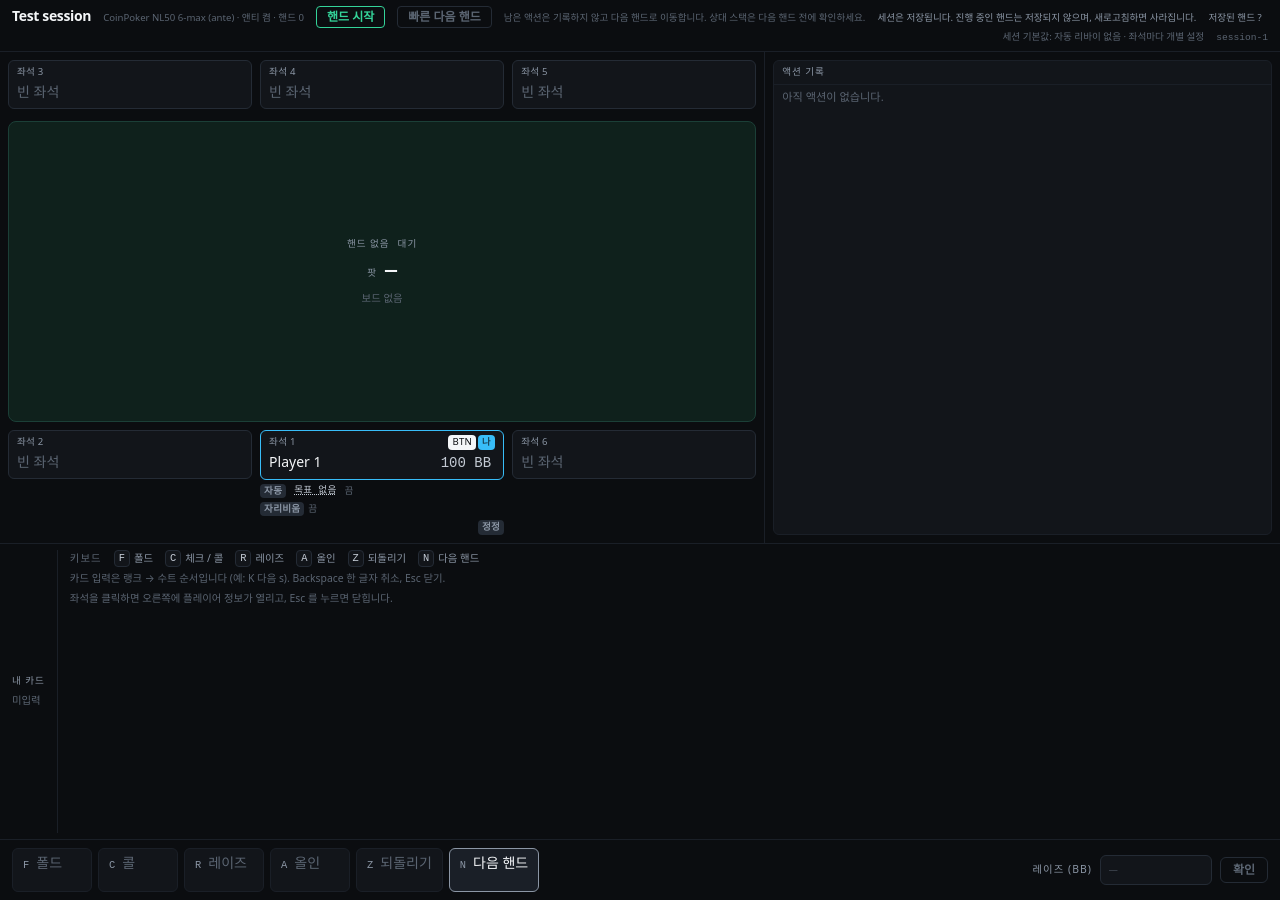
Test: TableRoot › surfaces the engine error when a hand cannot be dealt
Click the button with test id "start-hand".
click(351, 17)  # box top-left (316, 6), bottom-right (385, 28)
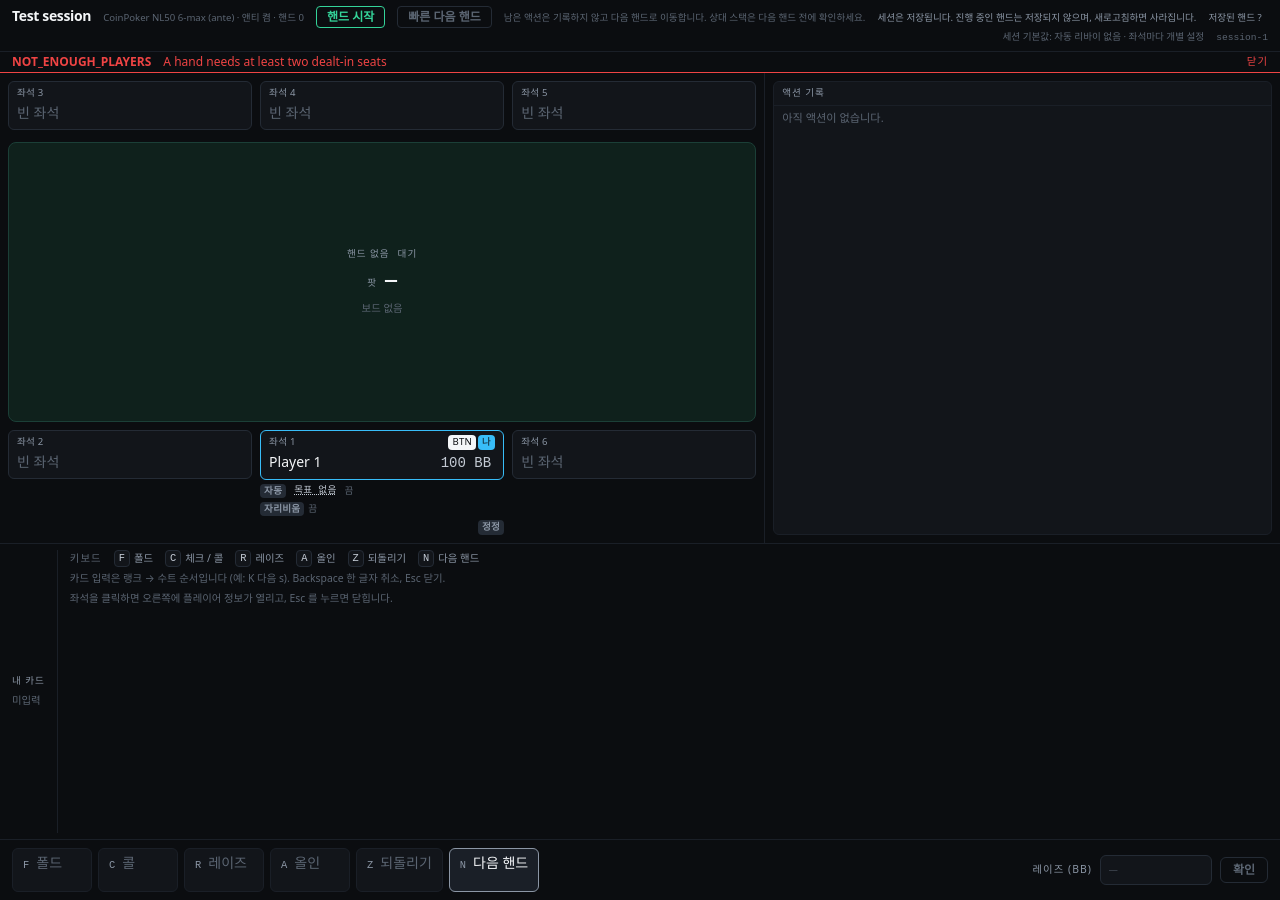
Expected: the text with test id "pot" reads "—", top-left (385, 269), bottom-right (397, 292)
Expected: the message with test id "engine-error" shows "NOT_ENOUGH_PLAYERS", top-left (12, 53), bottom-right (151, 70)
